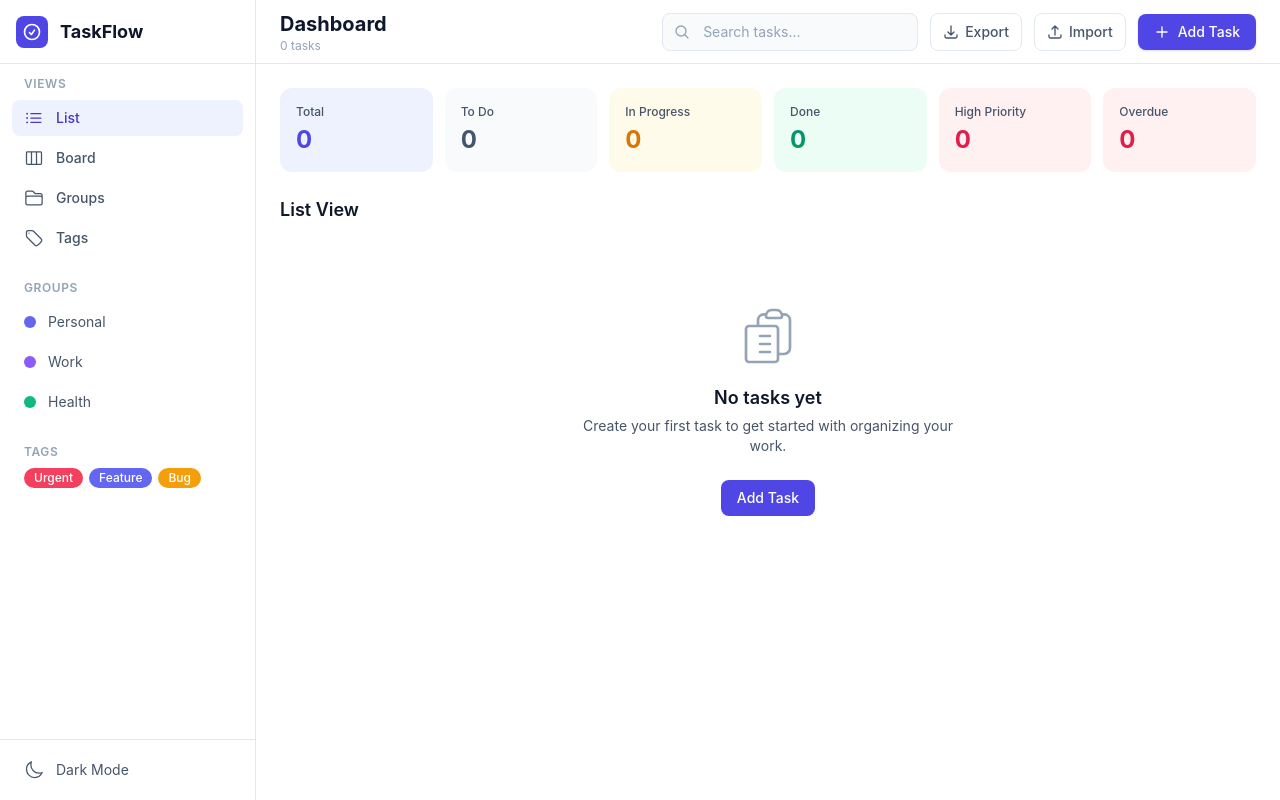
App integration › empty state Add Task button opens form
The width and height of the screenshot is (1280, 800).
// The empty state should show an "Add Task" button too
Click the button "Add Task" below "No tasks yet": point(768, 498) [721,480,815,516]
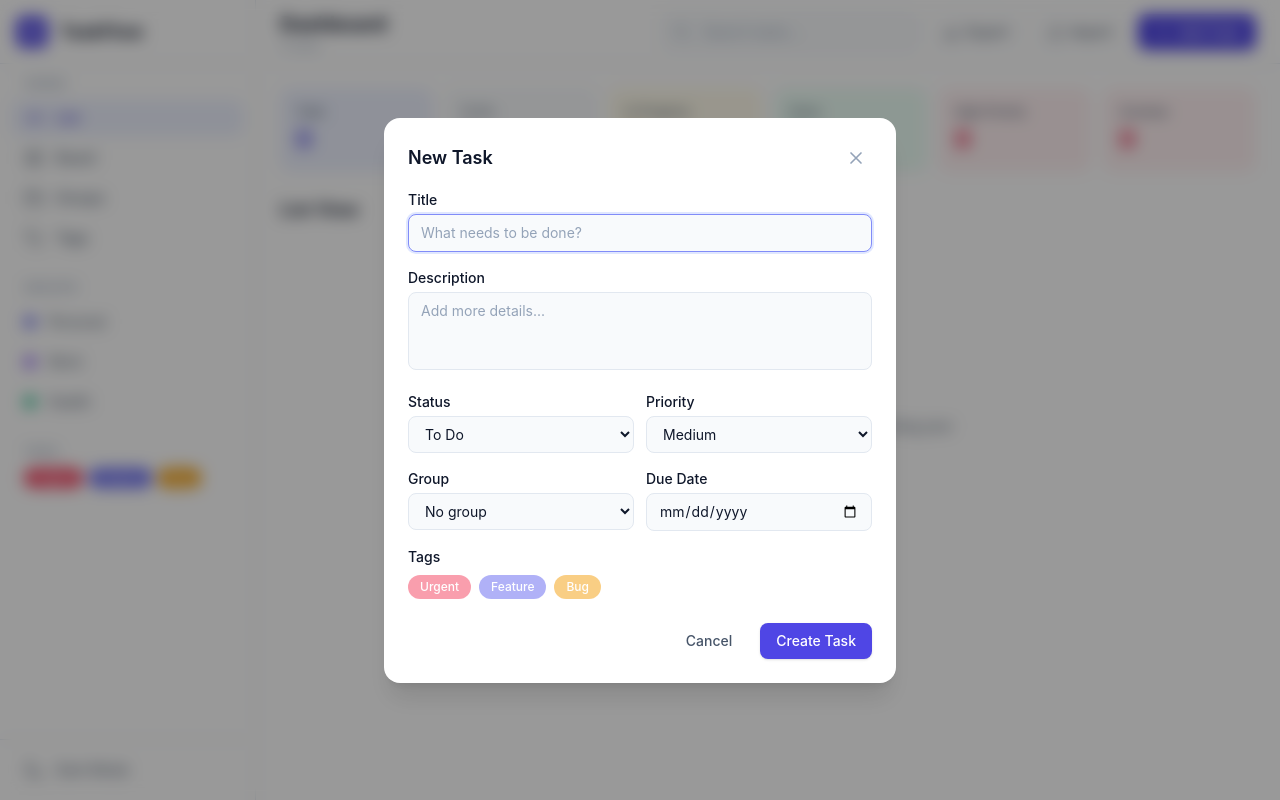
Expected: the heading "New Task" is shown, [408,144,493,172]
